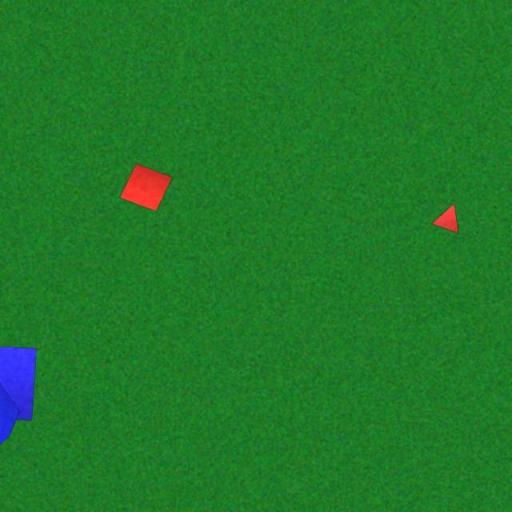RED_SQUARE: (119, 163, 173, 212)
